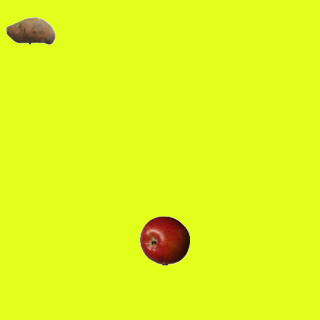Apple Braeburn: (139, 215, 189, 265)
Potato Sweet: (5, 5, 55, 55)
